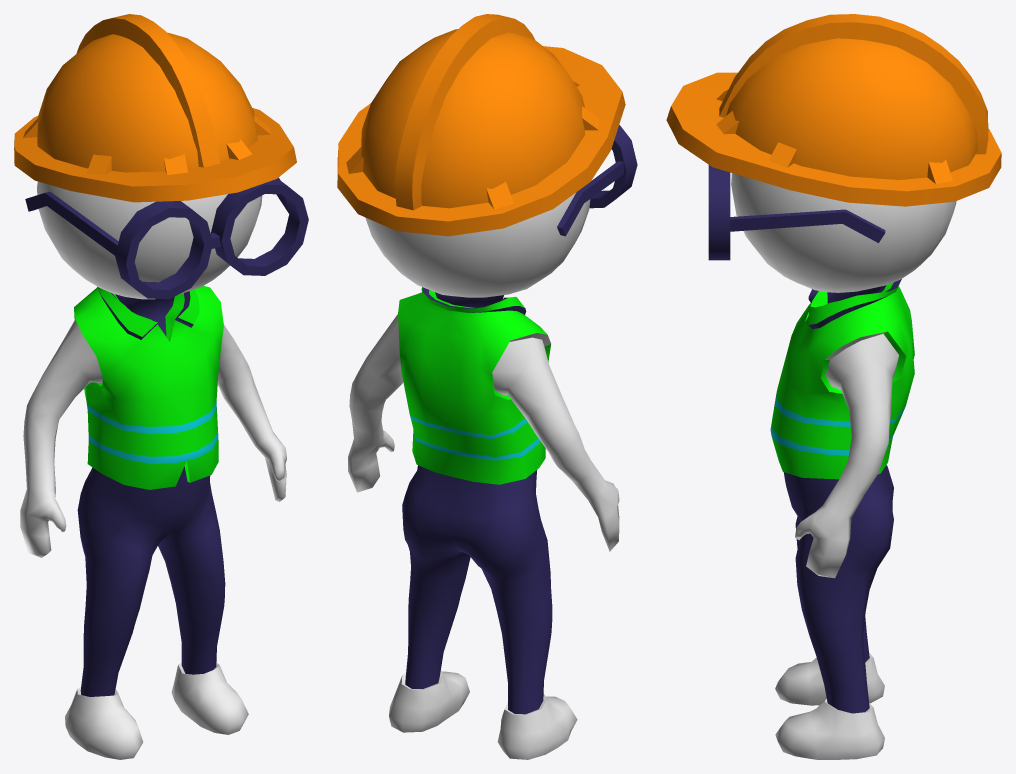
The model's file is worker_A_pose.fbx.
3 views of the same model, side by side, from view 1: azimuth 30°, elevation 25°; view 2: azimuth 150°, elevation 25°; view 3: azimuth 270°, elevation 25° (orthographic).
Parts seen in each view (by area): view 1: worker_A_pose; view 2: worker_A_pose; view 3: worker_A_pose.
Boxes of the visible parts, <box> form: worker_A_pose: <box>14,14,308,759</box>; worker_A_pose: <box>337,14,637,759</box>; worker_A_pose: <box>666,14,1001,759</box>.
Bounding box in the file's own units: 78.34 × 202 × 87.1.
